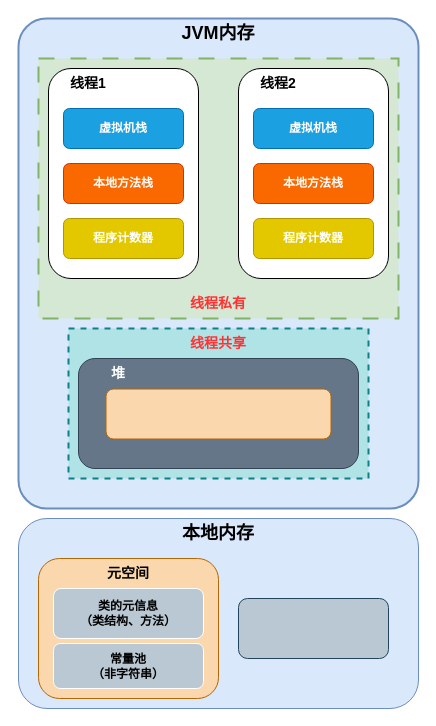
Image size: 436x726. Some labels were removed from this diagram. Each missing label, with the centre of its shape:
主存: the point at 313,628
字符串常量池: the point at 218,413
